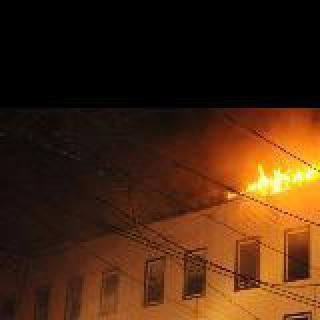fire: (236, 158, 320, 194)
